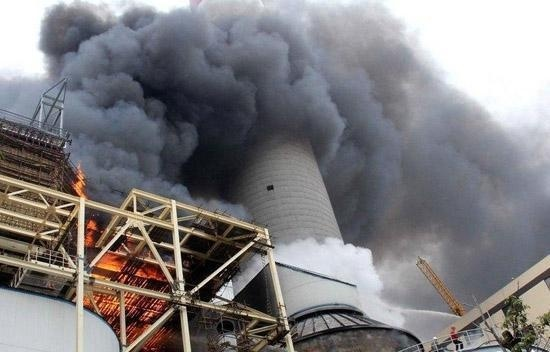fire: (83, 217, 165, 314), (70, 163, 86, 196)
